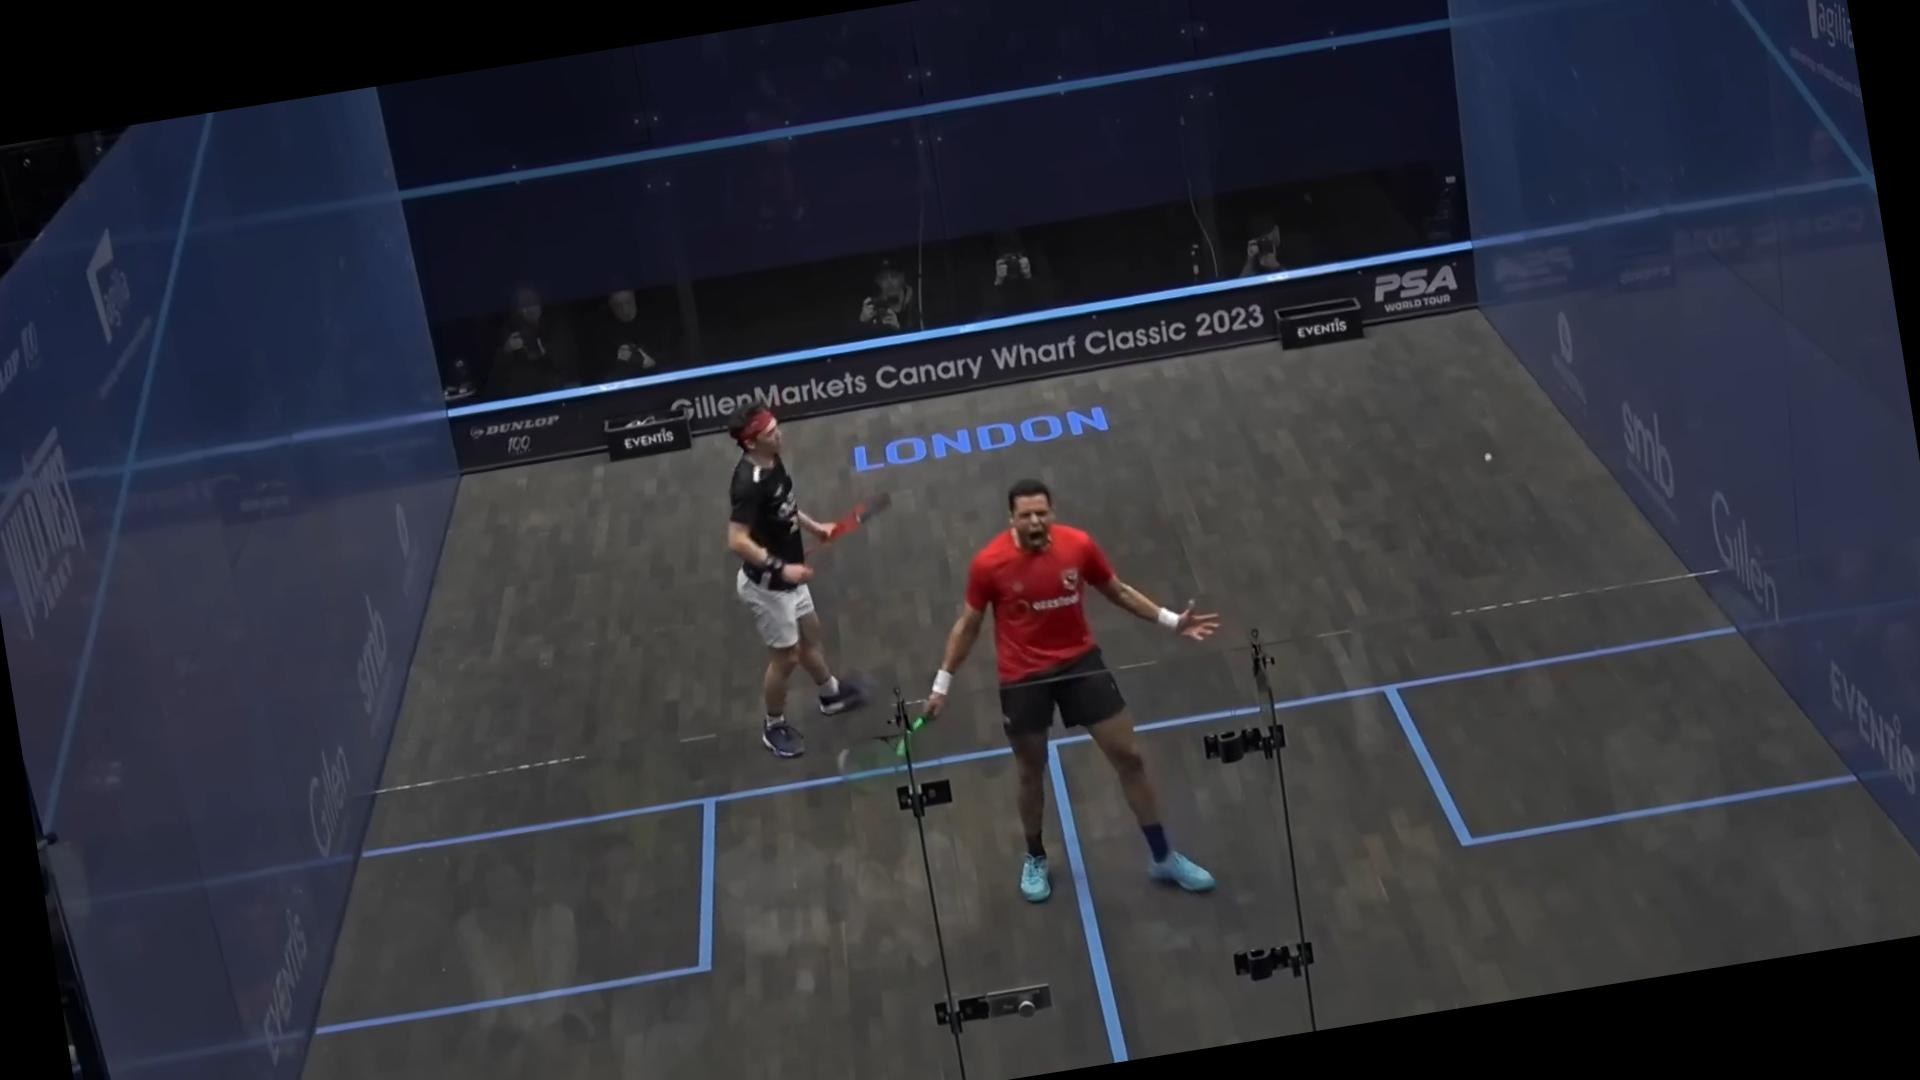Racket: (823, 716, 951, 814), (818, 484, 899, 546)
